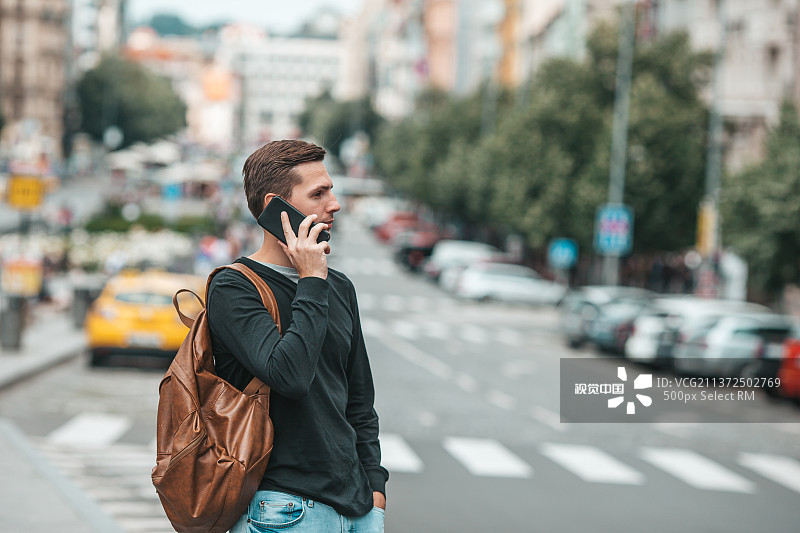calling: (248, 194, 358, 289)
